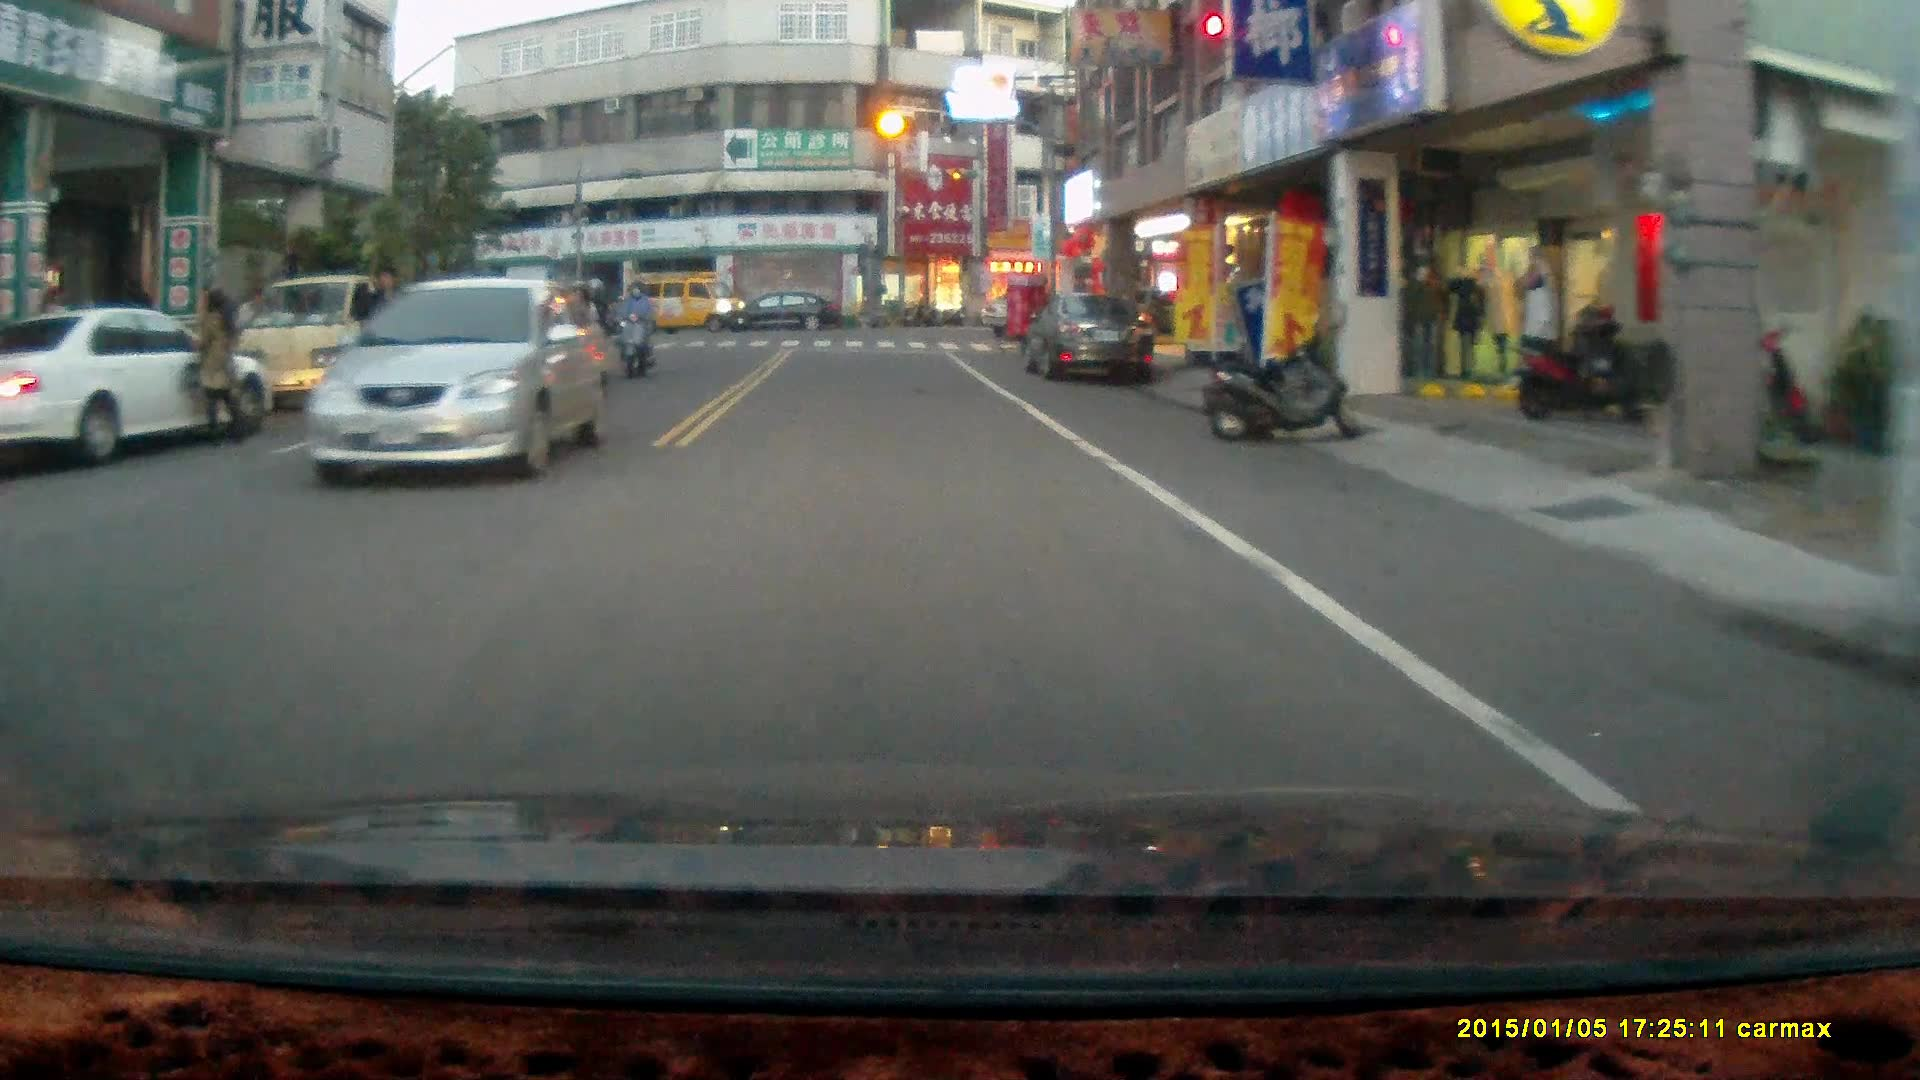pedestrian: (182, 286, 245, 450), (351, 260, 412, 413)
rider: (552, 274, 606, 394), (616, 277, 656, 380)
vehicle: (308, 276, 614, 491), (1, 304, 281, 474), (1020, 286, 1162, 386), (627, 272, 750, 337), (726, 291, 843, 336)
